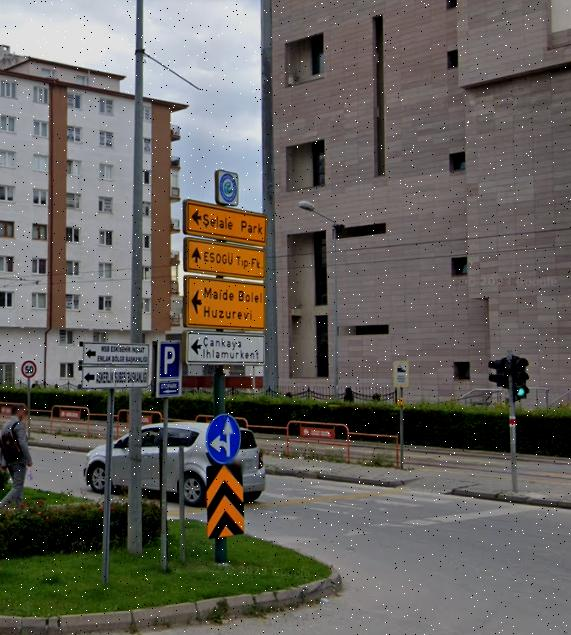greenlight: (512, 352, 533, 403)
park: (160, 343, 181, 378)
